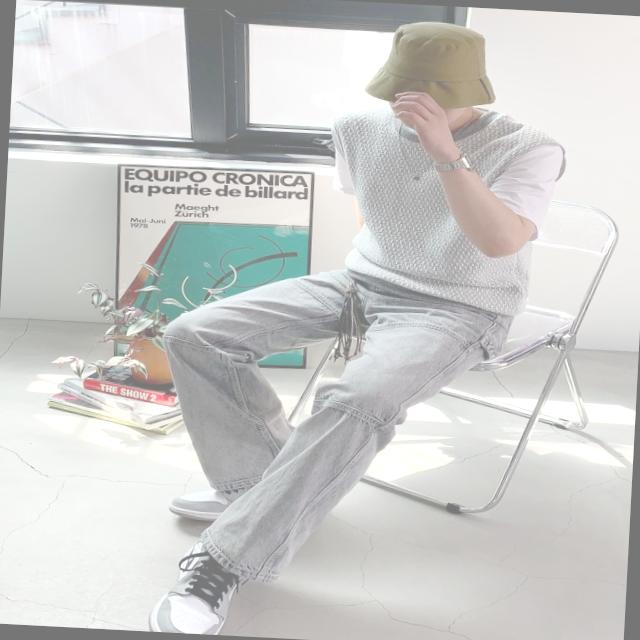denimpants: (148, 248, 516, 590)
shortsleeve: (328, 101, 572, 322)
